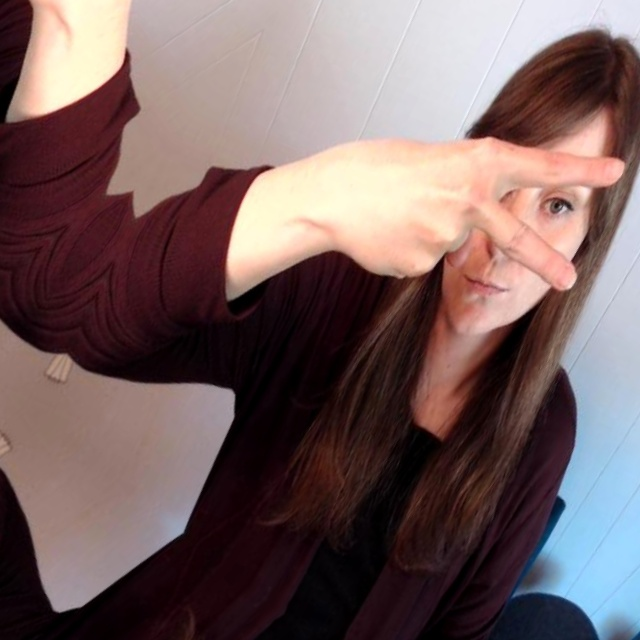Scissors: (586, 0, 640, 9)
